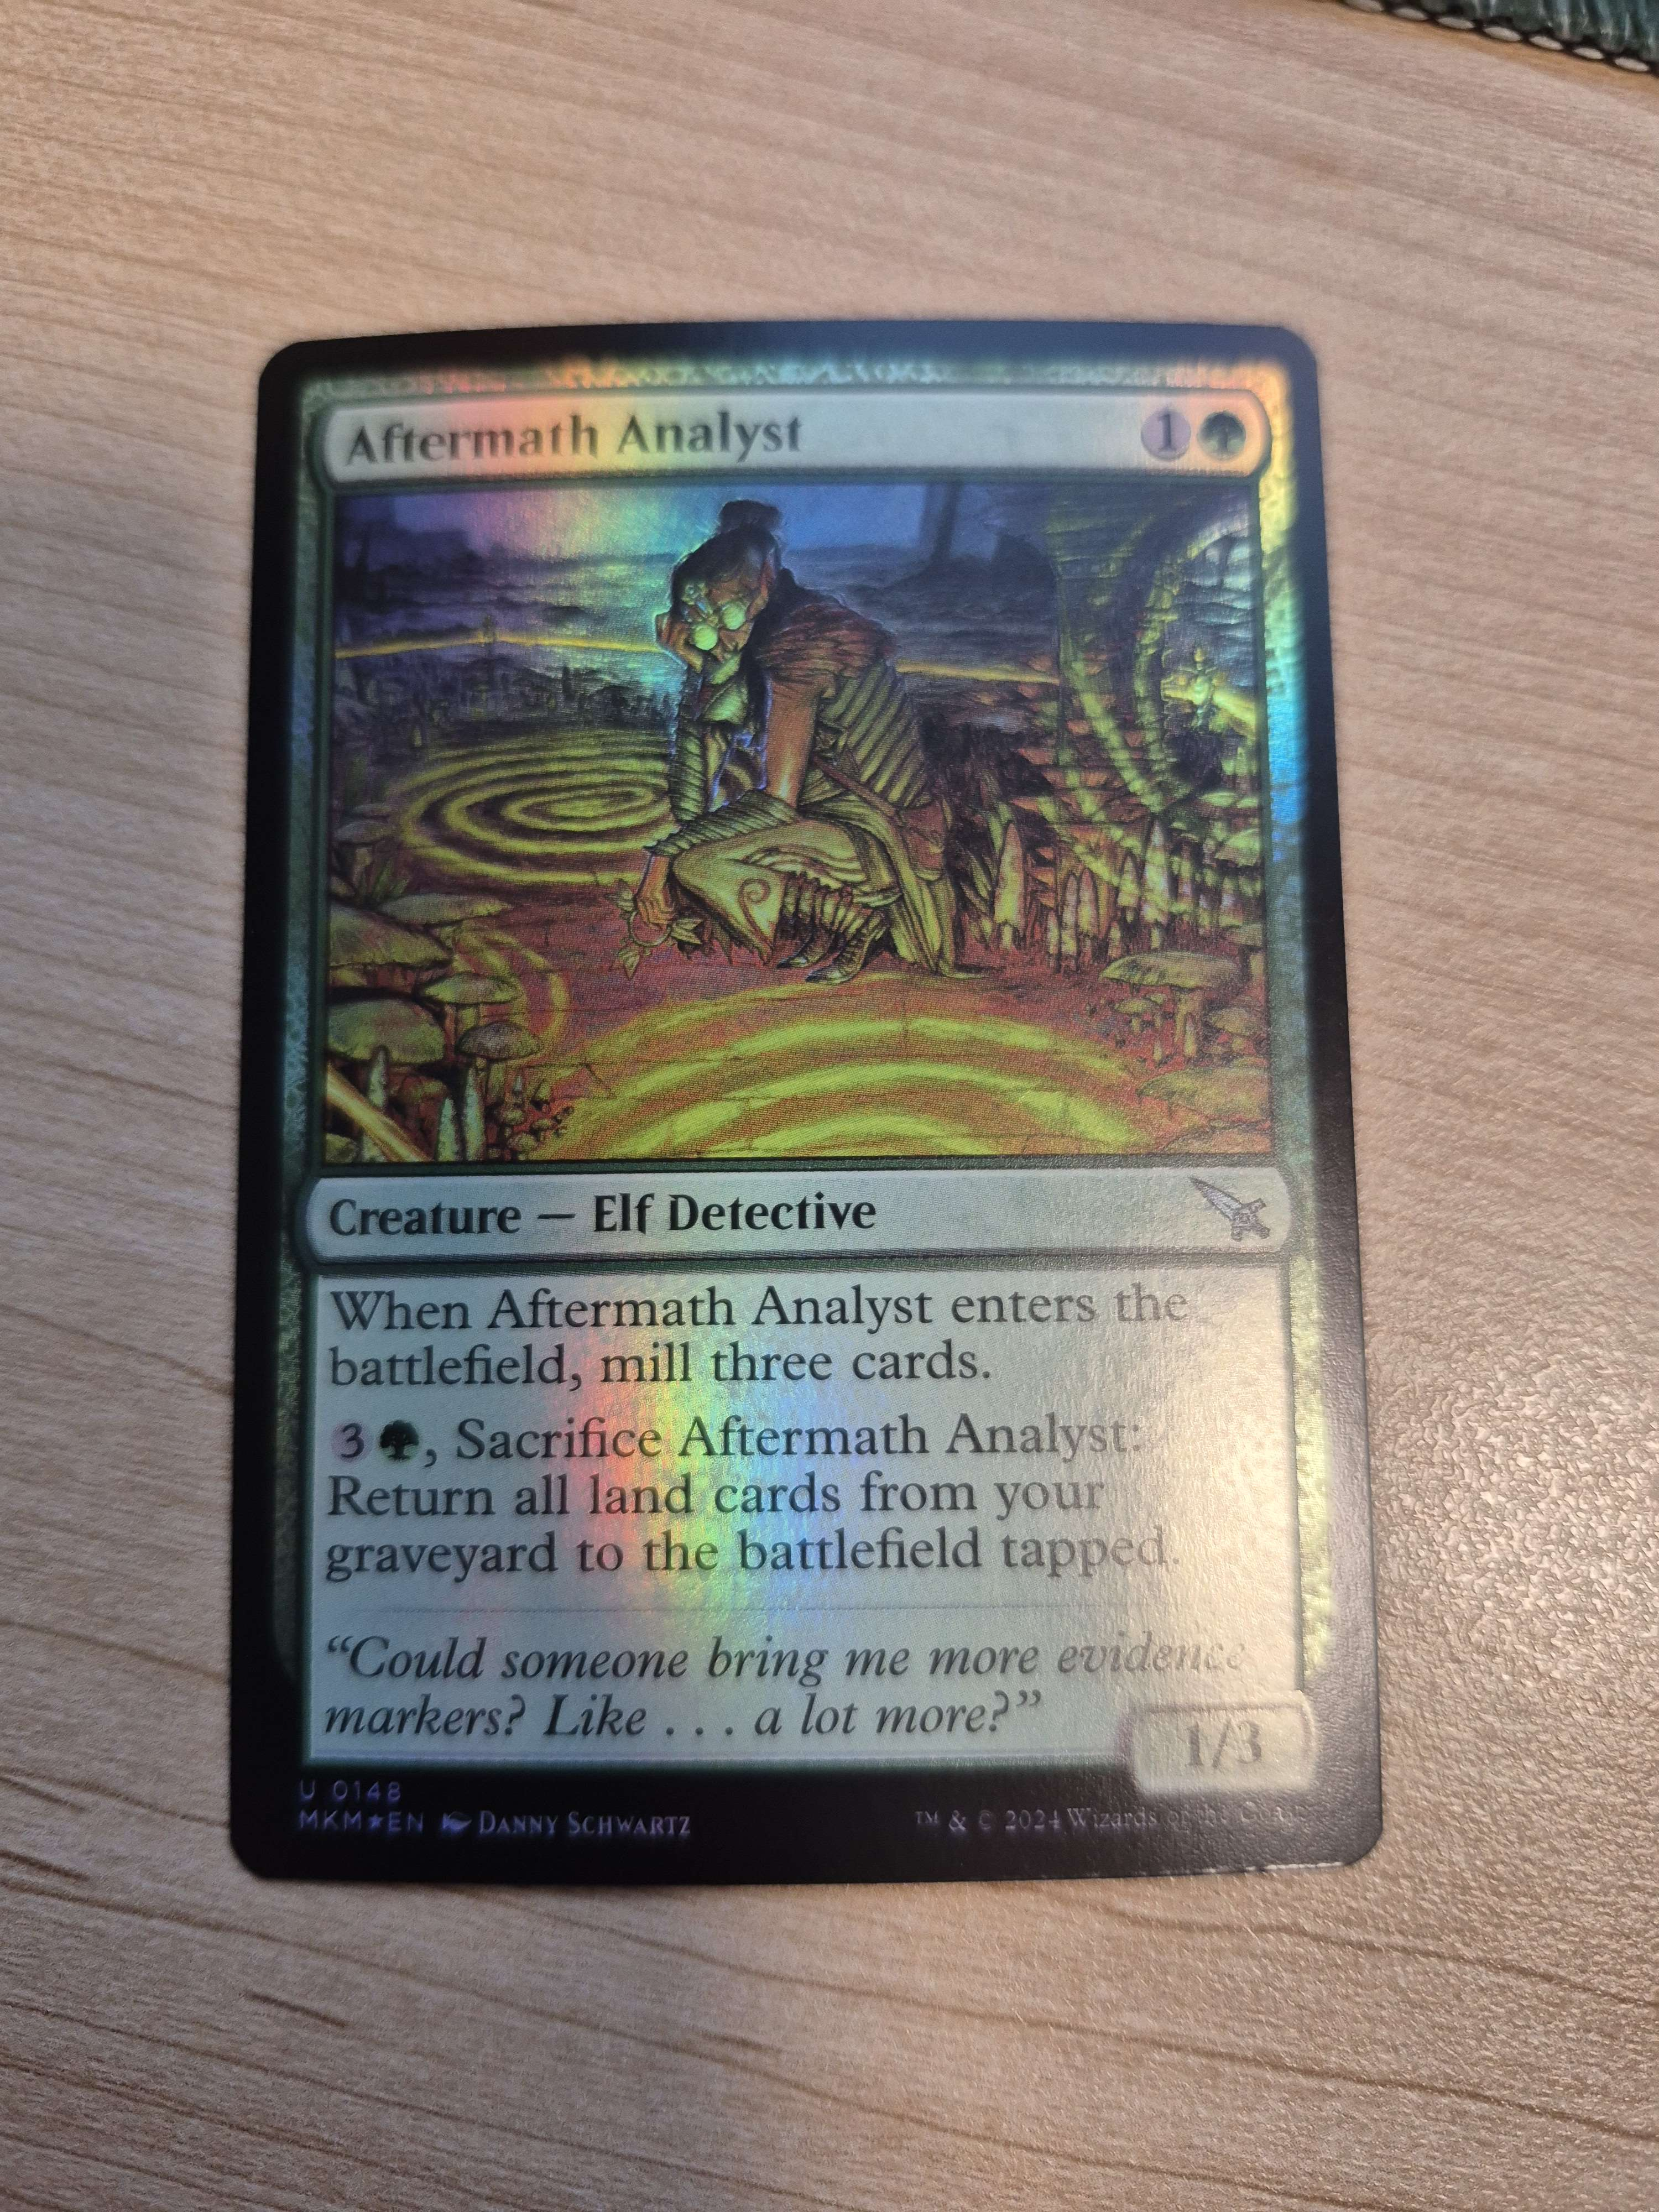mtg_card: (268, 334, 1399, 1904)
